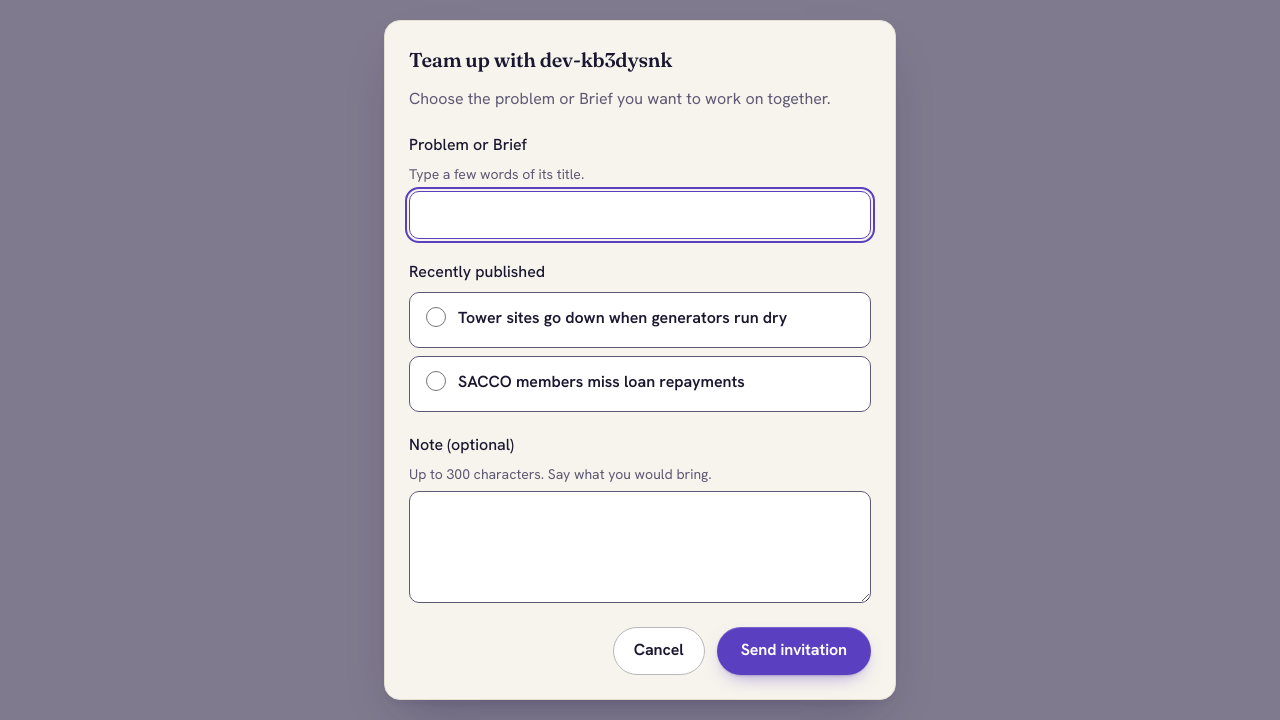
it: the Team up sheet › says the peersOff refusal in one sentence and stays open
Click the radio button labelled "Tower sites go down when generators run dry" at (436,317), box top-left (426, 307), bottom-right (446, 327)
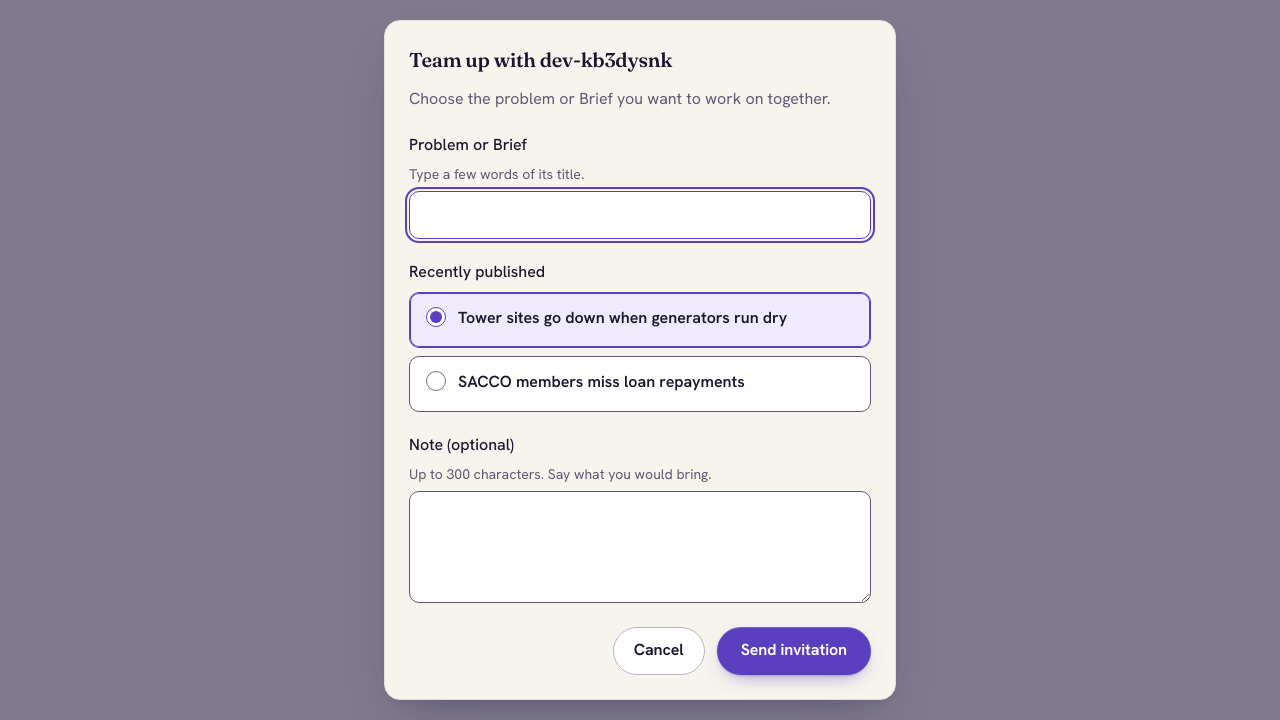
Click the button "Send invitation" at (794,651), box top-left (717, 627), bottom-right (871, 675)
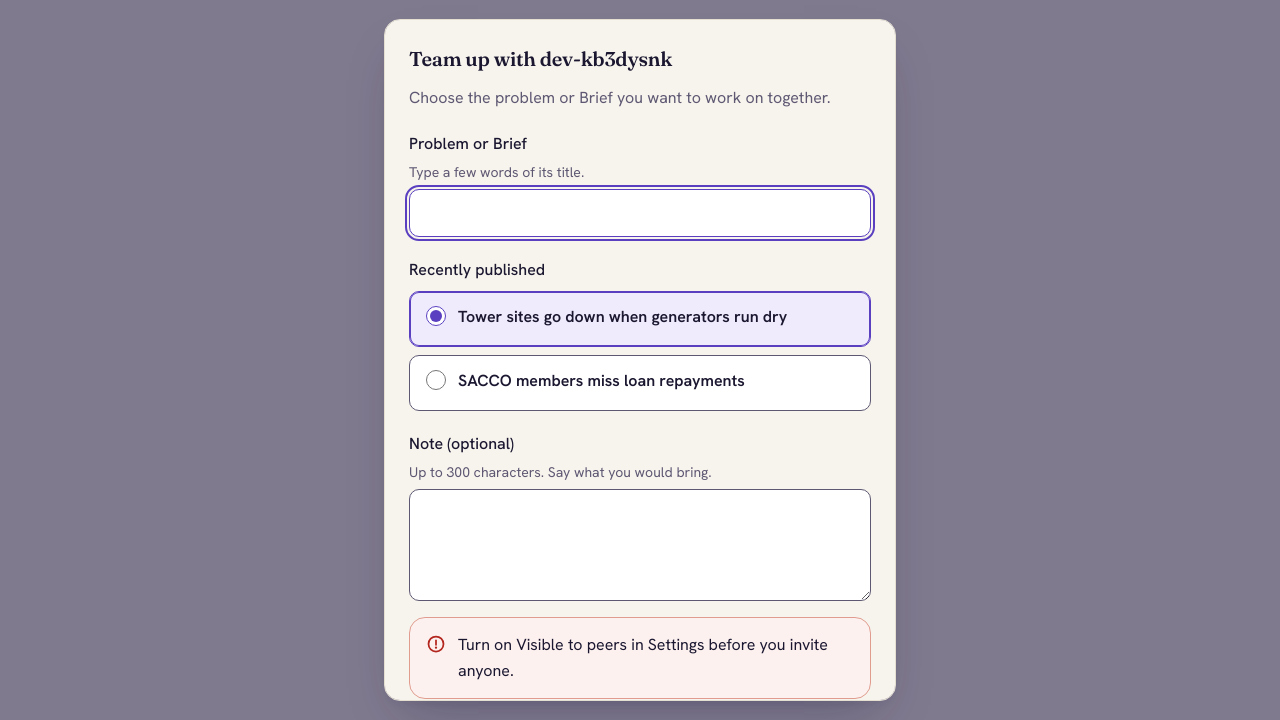
Now the message reads "Turn on Visible to peers in Settings before you invite anyone.", box top-left (458, 634), bottom-right (828, 681)
